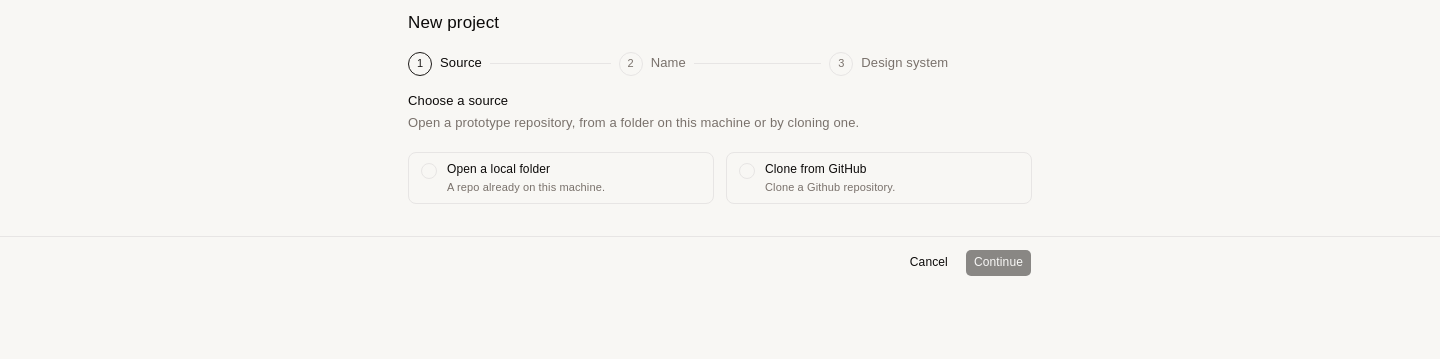
Test: NewProjectPage › shows the picked path back before it is used
This screenshot has width=1440, height=359.
What coordinates should you click on to do the following:
click the label with test id "new-project-local"
I would click on:
 (561, 178)
Its box is [408,152,714,204].
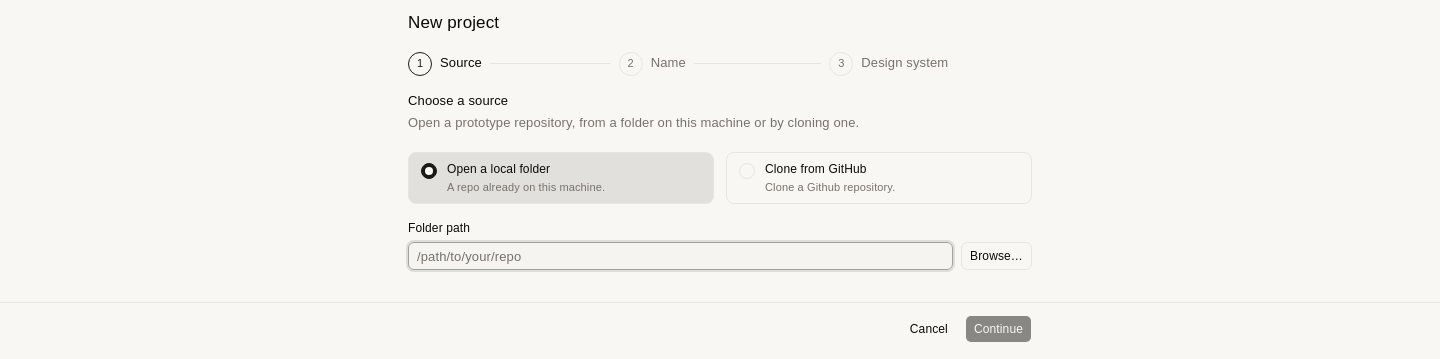
What coordinates should you click on to do the following:
click the button with test id "new-project-browse"
I would click on:
 (997, 256)
Its box is [961,242,1032,270].
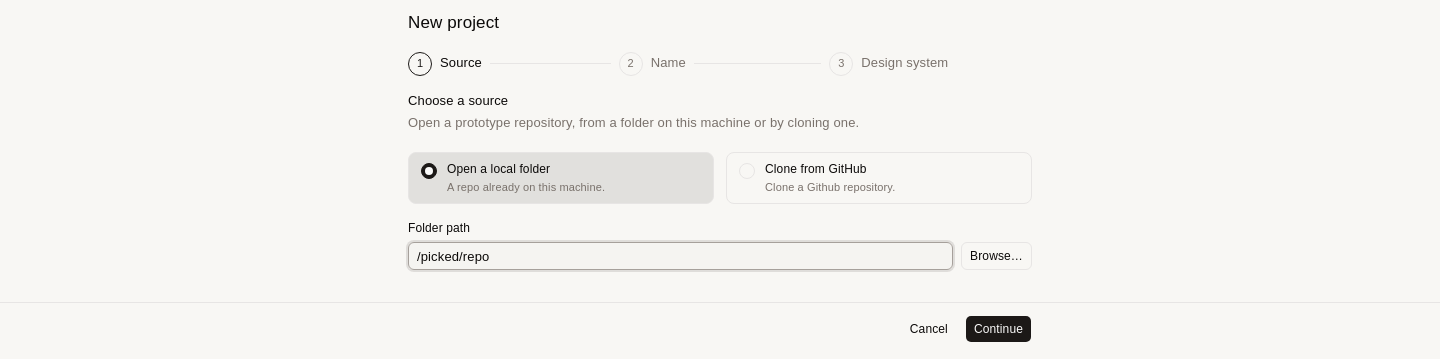
Expected: the field labelled "Folder path" holds "/picked/repo", [408,242,953,270]
